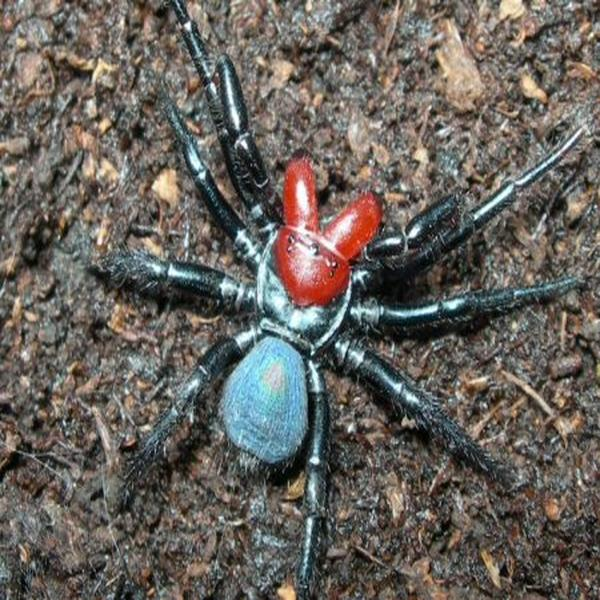Red Headed Mouse Spider: (120, 20, 561, 557)
